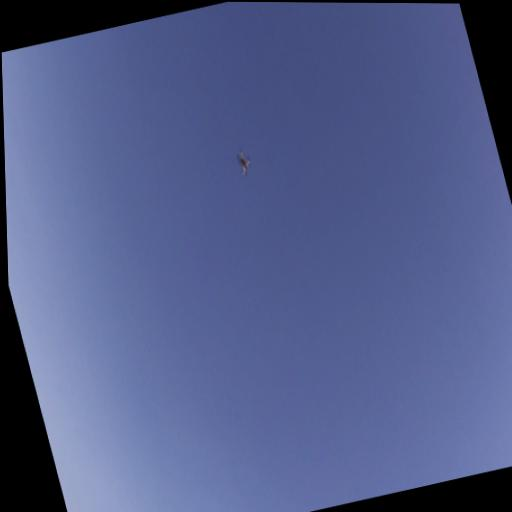drones: (233, 144, 255, 178)
